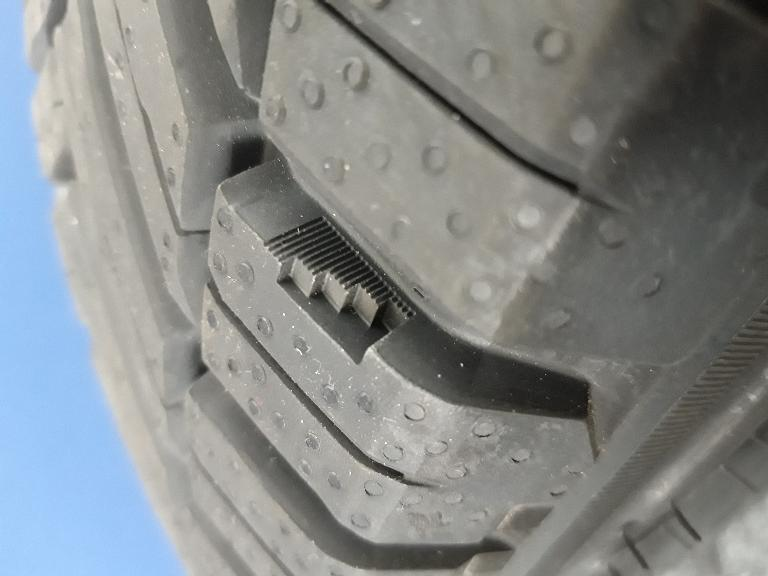temoin:100: (261, 212, 421, 369)
